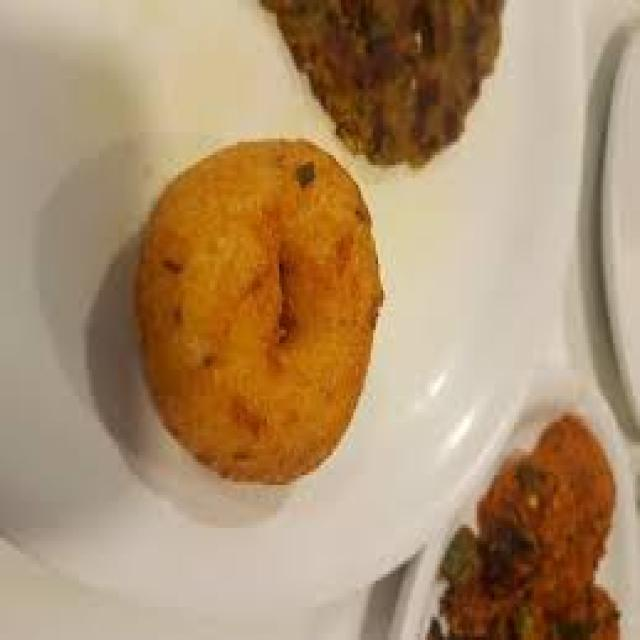MEDU VADA: (127, 140, 385, 490)
